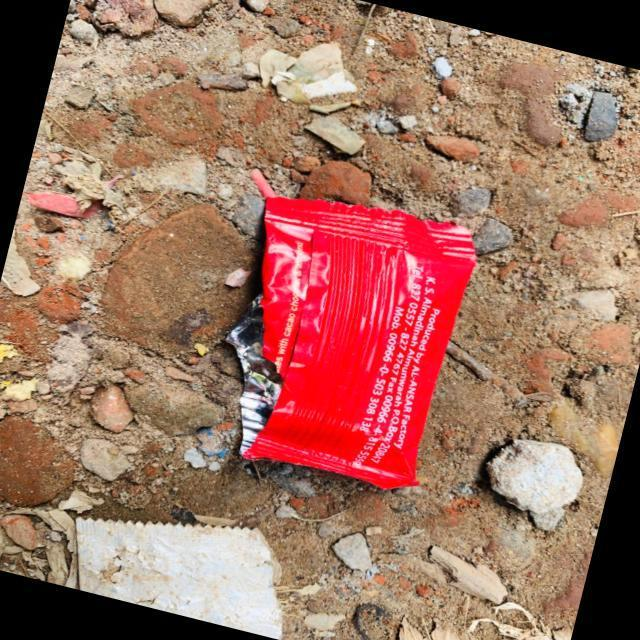packet: (188, 179, 489, 497)
